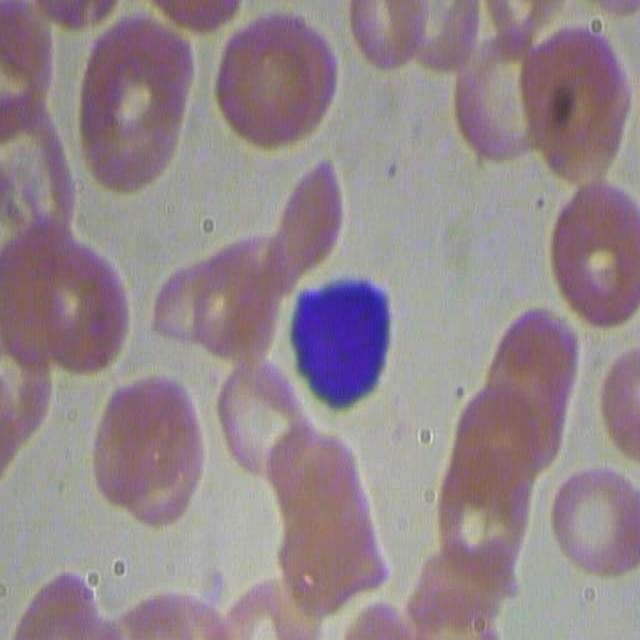RBC: (8, 227, 129, 371), (524, 25, 629, 181), (86, 28, 186, 190), (223, 27, 337, 144), (104, 384, 197, 516), (558, 186, 640, 329), (440, 443, 528, 575), (0, 107, 74, 259), (450, 42, 550, 153), (269, 424, 357, 549), (222, 357, 314, 472), (460, 388, 555, 499), (486, 318, 576, 430), (551, 467, 640, 577), (290, 491, 389, 584), (274, 161, 343, 282), (194, 262, 275, 355), (153, 266, 236, 352), (412, 558, 508, 632), (0, 0, 50, 125), (0, 348, 52, 460), (350, 0, 430, 69), (402, 0, 480, 66), (17, 572, 92, 640), (112, 596, 229, 639), (236, 580, 312, 640), (605, 351, 640, 460)
WBC: (298, 288, 387, 404)
